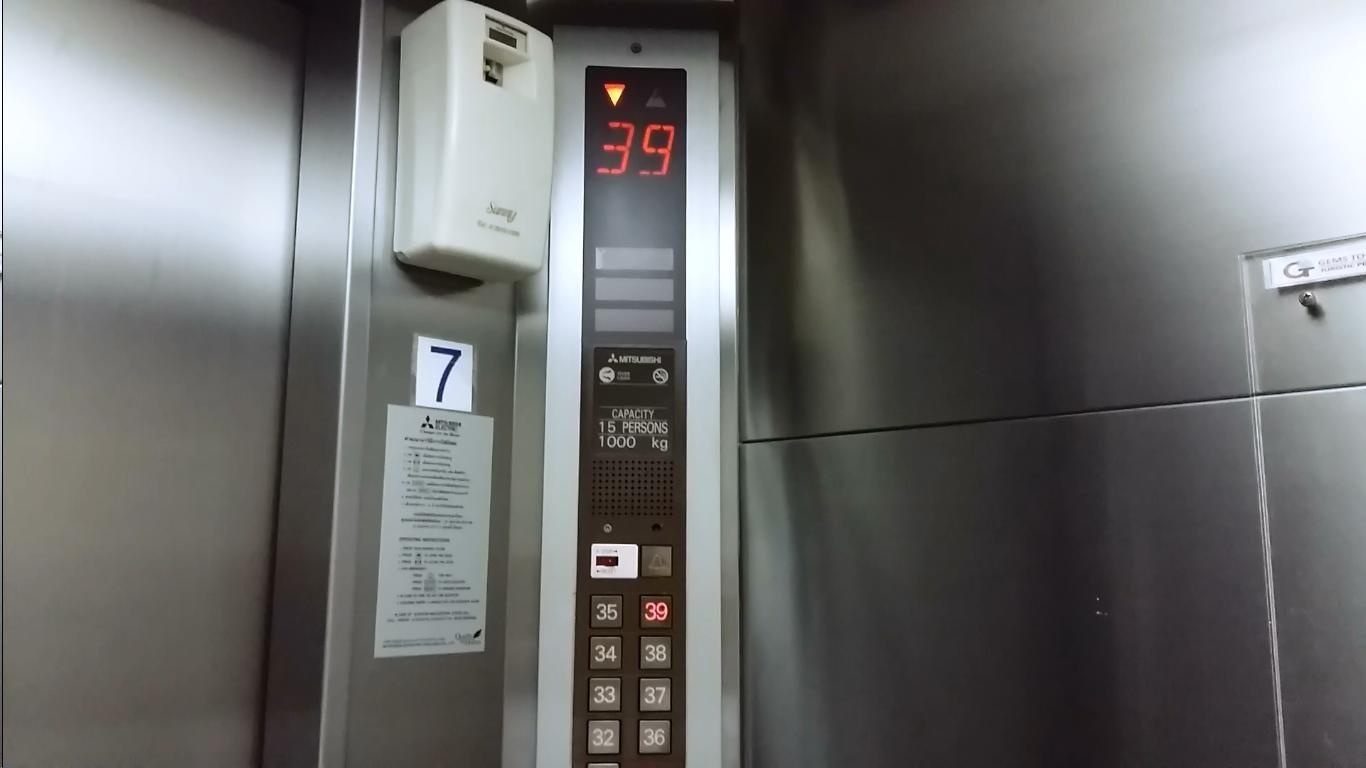32: (583, 716, 624, 757)
33: (584, 673, 625, 714)
34: (586, 632, 626, 671)
35: (587, 591, 625, 630)
36: (635, 715, 674, 756)
37: (635, 673, 674, 714)
38: (636, 632, 675, 672)
39: (636, 591, 677, 632)
alarm: (637, 541, 676, 579)
led: (592, 72, 683, 184)
